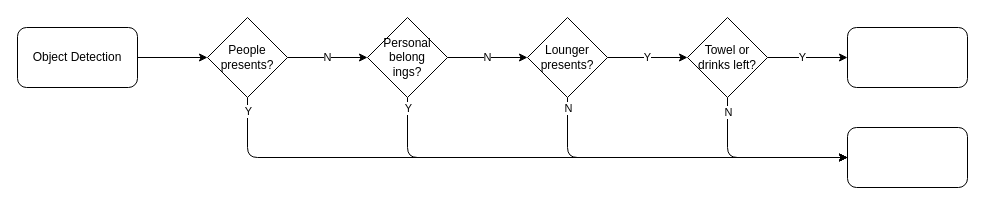
The diagram is 985 pixels wide and 205 high, and some of its shapes have lost their labels. The box of each missing label's shape, as (x1, y1, x2, y2) in pixels:
Status: awaiting cleanup: (846, 26, 968, 88)
Status: normal: (846, 126, 968, 188)
